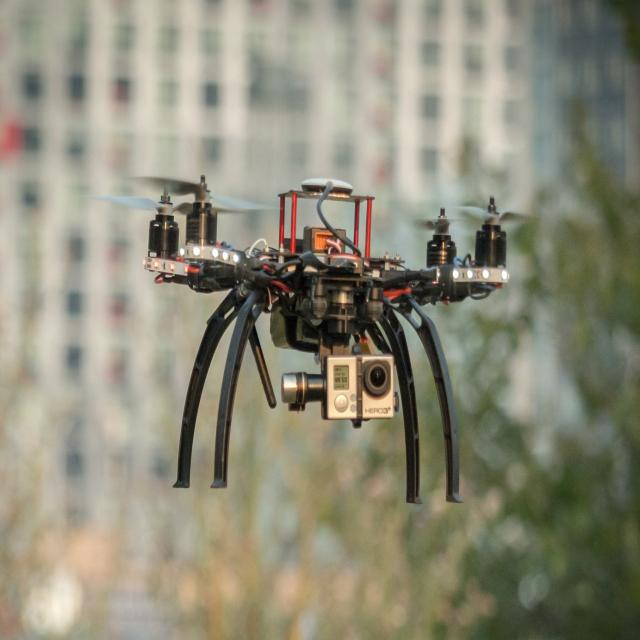drone: (98, 152, 542, 368)
